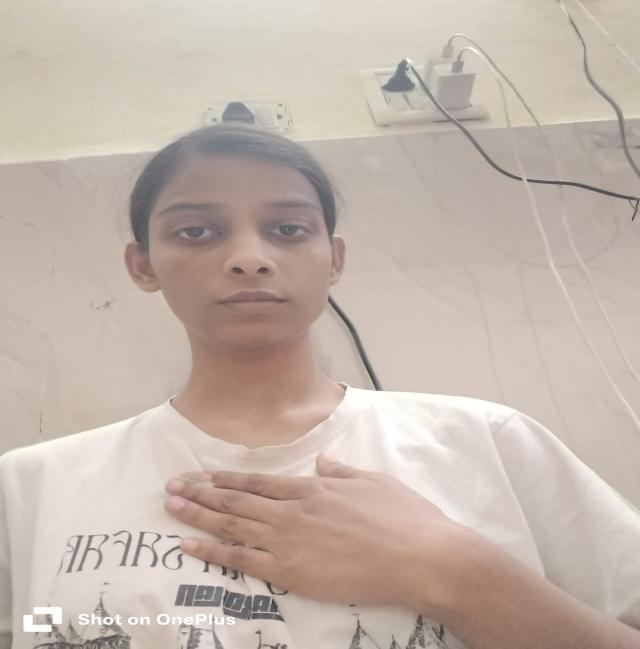Please: (142, 445, 494, 626)
